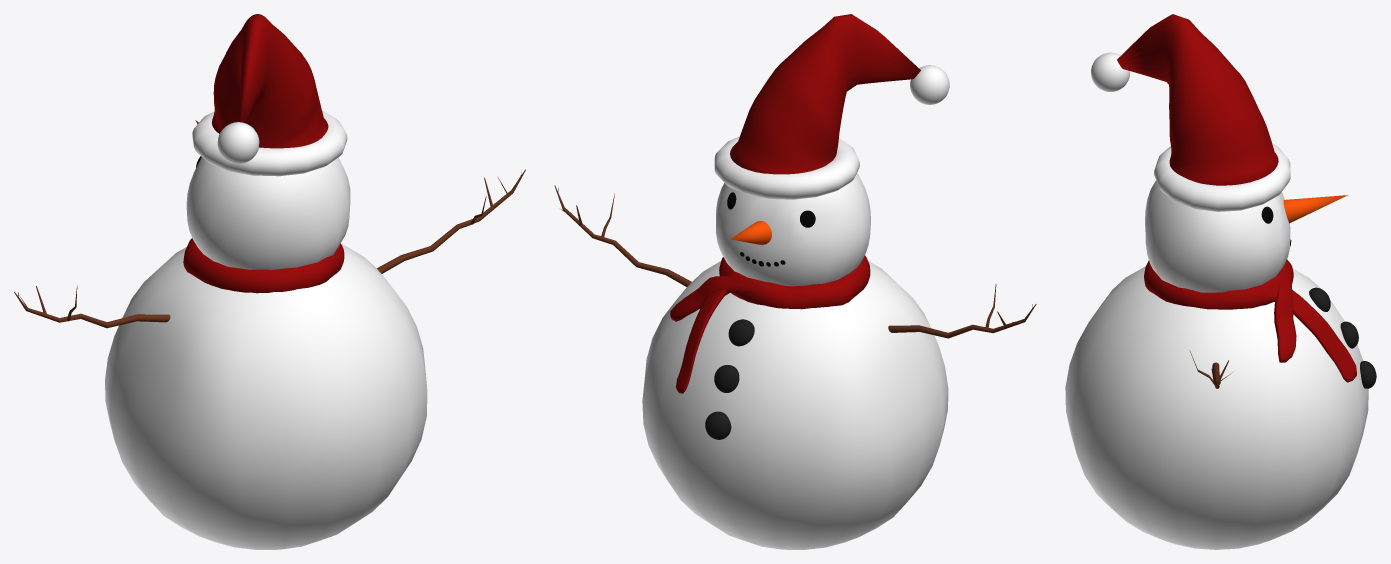
The model's file is snowman.fbx.
The picture shows the model from 3 angles, left to right: view 1: azimuth 30°, elevation 25°; view 2: azimuth 150°, elevation 25°; view 3: azimuth 270°, elevation 25°; orthographic projection. The views are drawn at different scales.
Visible parts, largest first — view 1: pSphere1, polySurface1, pSphere19, pTorus2, pTorus1, pCylinder3; view 2: pSphere1, pSphere19, polySurface1, pTorus1, pTorus2, pCylinder3, pSphere18, polySurface11; view 3: pSphere1, pSphere19, polySurface1, pTorus1, pTorus2, pSphere18, polySurface11.
Boxes of the visible parts, left/top/right/bottom form: pSphere1: left=105, top=244, right=427, bottom=549; polySurface1: left=186, top=157, right=350, bottom=269; pSphere19: left=212, top=14, right=328, bottom=163; pTorus2: left=192, top=110, right=347, bottom=176; pTorus1: left=183, top=238, right=344, bottom=293; pCylinder3: left=14, top=169, right=525, bottom=328; pSphere1: left=642, top=261, right=948, bottom=549; pSphere19: left=730, top=14, right=949, bottom=174; polySurface1: left=716, top=173, right=870, bottom=286; pTorus1: left=670, top=255, right=870, bottom=393; pTorus2: left=714, top=136, right=859, bottom=199; pCylinder3: left=554, top=185, right=1036, bottom=338; pSphere18: left=705, top=319, right=754, bottom=439; polySurface11: left=730, top=221, right=771, bottom=245; pSphere1: left=1065, top=266, right=1368, bottom=549; pSphere19: left=1091, top=14, right=1278, bottom=185; polySurface1: left=1145, top=180, right=1290, bottom=292; pTorus1: left=1144, top=259, right=1356, bottom=382; pTorus2: left=1154, top=143, right=1290, bottom=211; pSphere18: left=1309, top=287, right=1376, bottom=388; polySurface11: left=1283, top=195, right=1347, bottom=223.
Bounding box in the file's own units: 5.04 × 5.1 × 2.84.
